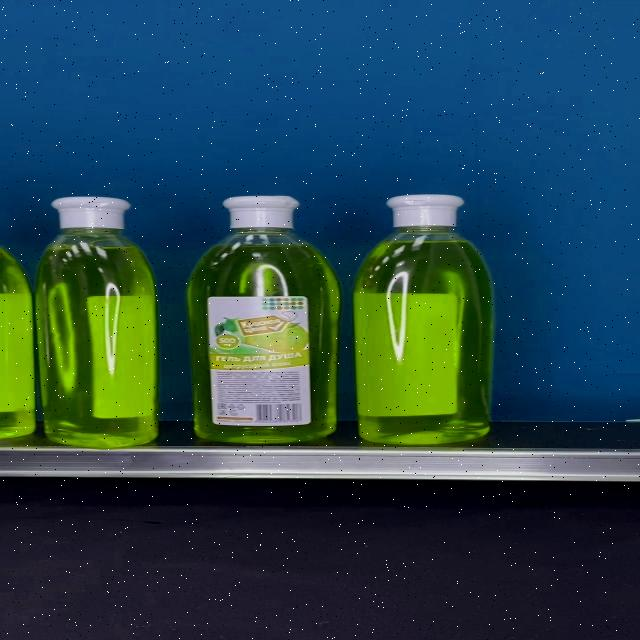Bottle: (186, 195, 341, 443), (352, 193, 492, 444), (36, 196, 158, 447)
Cap: (386, 193, 466, 227), (50, 197, 132, 230), (222, 196, 302, 228)
